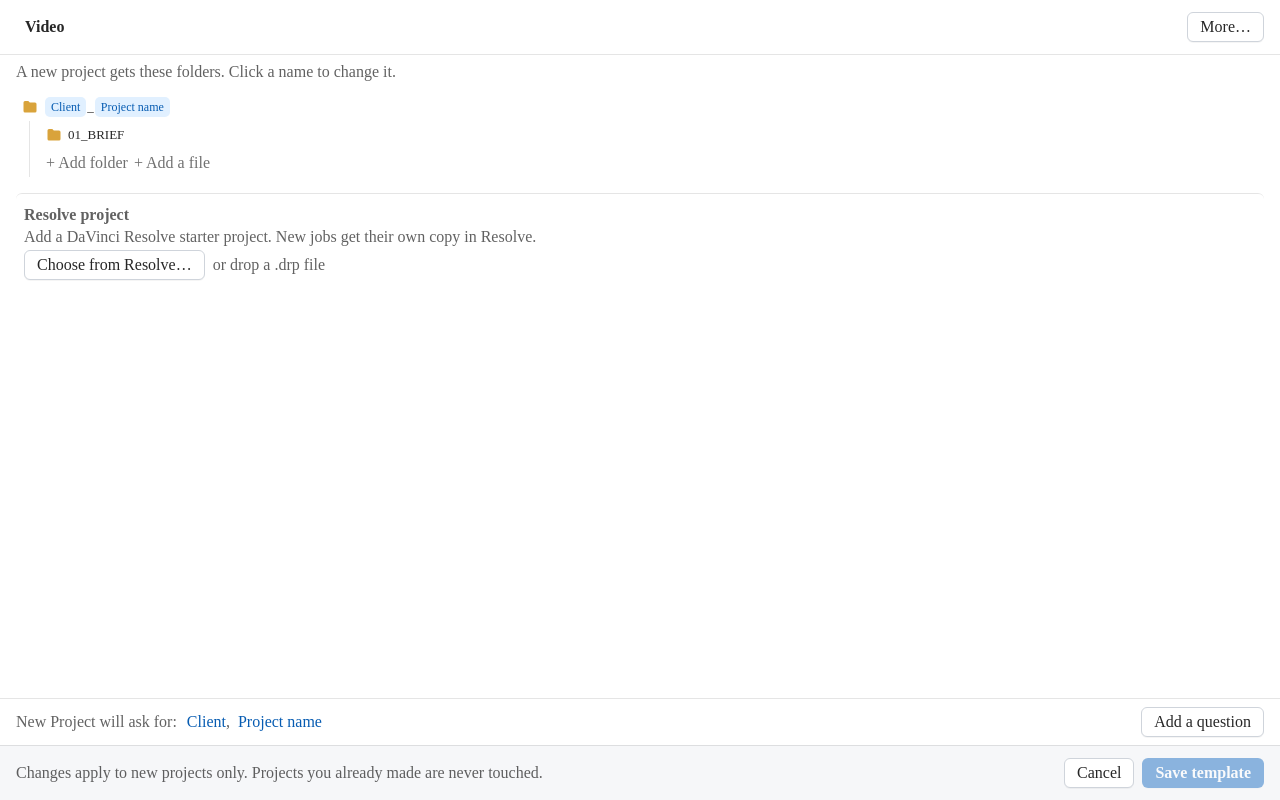
Scenario: Resolve project in the template editor › says what to do when Resolve is scriptingOff
The image size is (1280, 800).
Click the button "Choose from Resolve…".
click(114, 265)  # box [24,250,205,280]
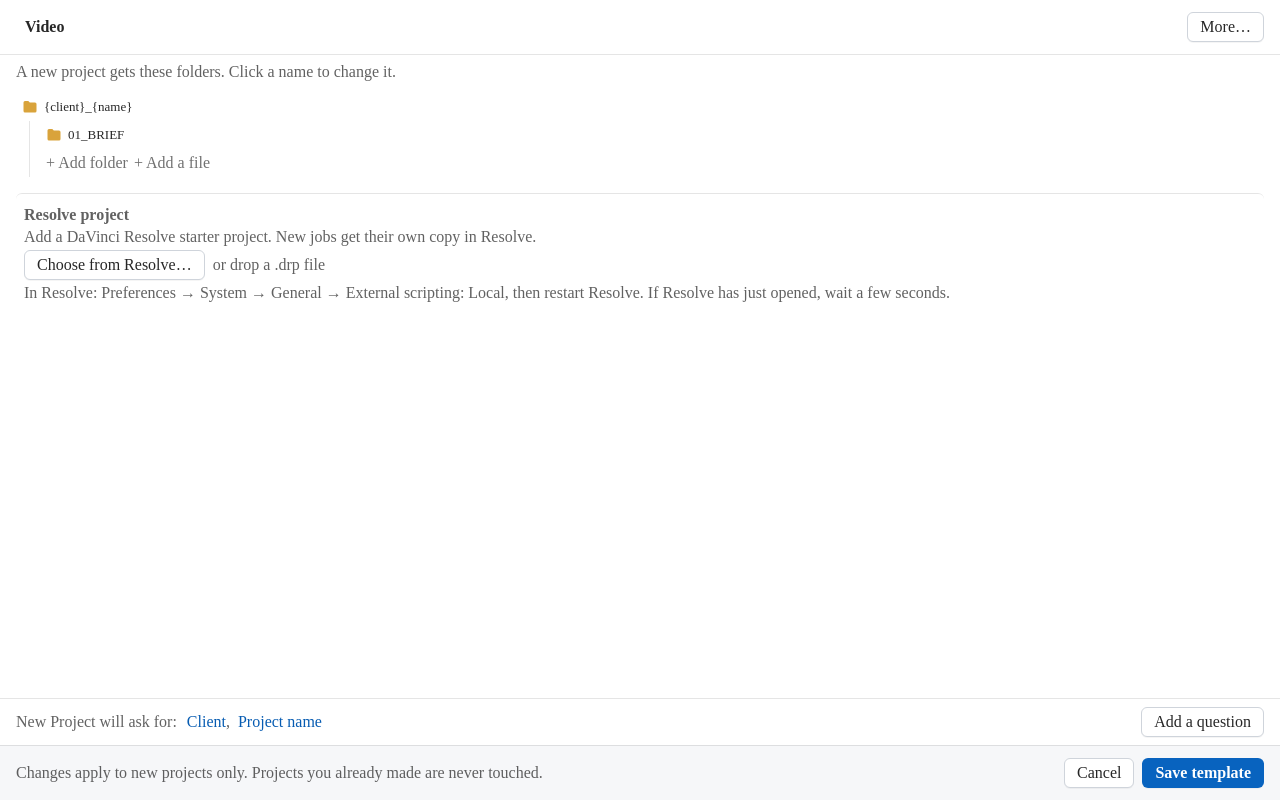
Now the text "In Resolve: Preferences → System → General → External scripting: Local, then restart Resolve. If Resolve has just opened" is shown, box [24,284,950,301]
